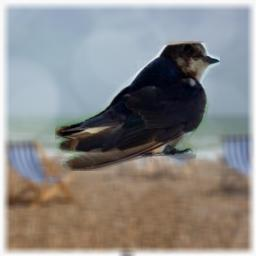Swallow: (55, 41, 220, 171)
